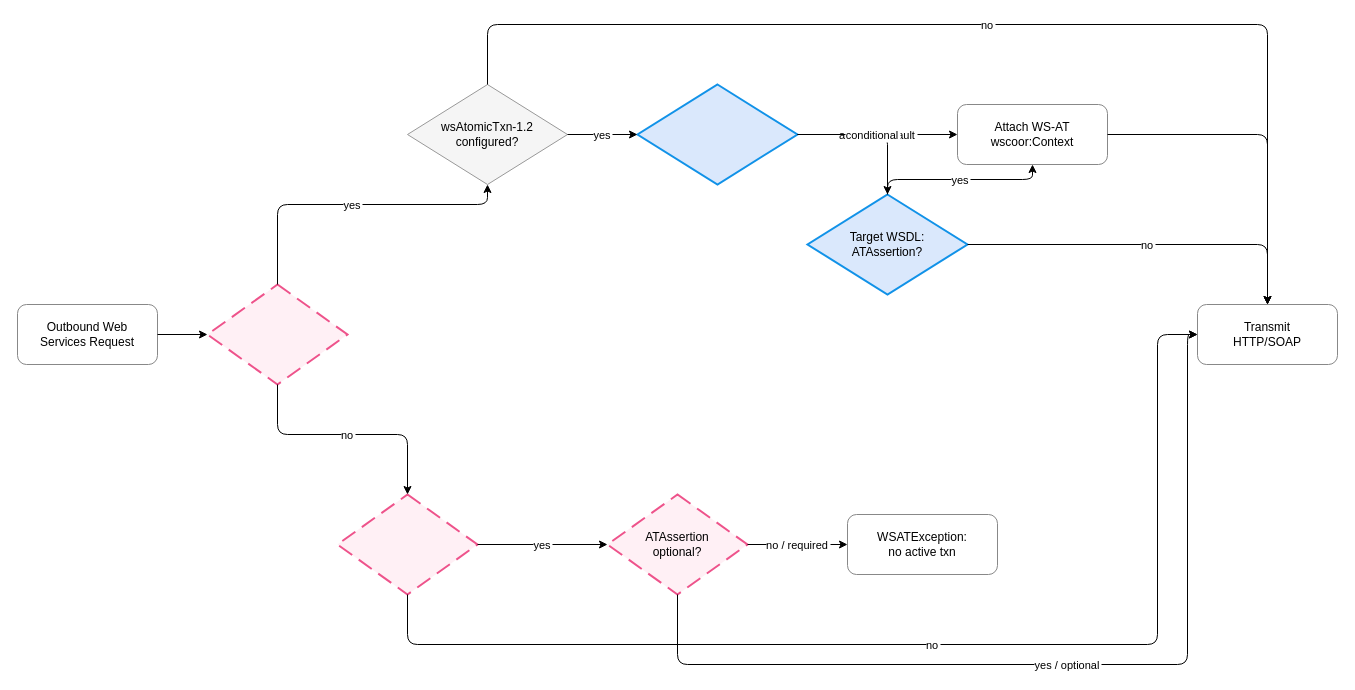
This 1355x690 diagram has some shape labels left out. The centre of each missing label's shape, as x and y in pixels:
"ATAssertion in WSDL?" belongs at (x=407, y=544).
"Check Config: propagation?" belongs at (x=717, y=134).
"global txn active?" belongs at (x=277, y=334).
